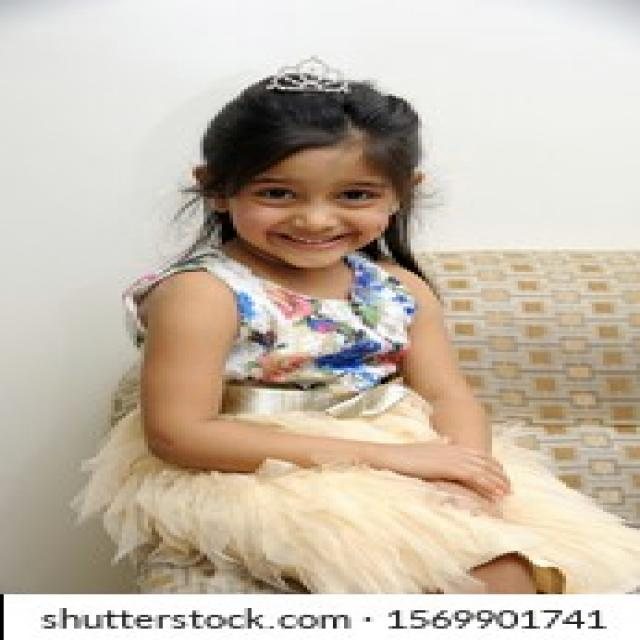child: (89, 57, 629, 597)
